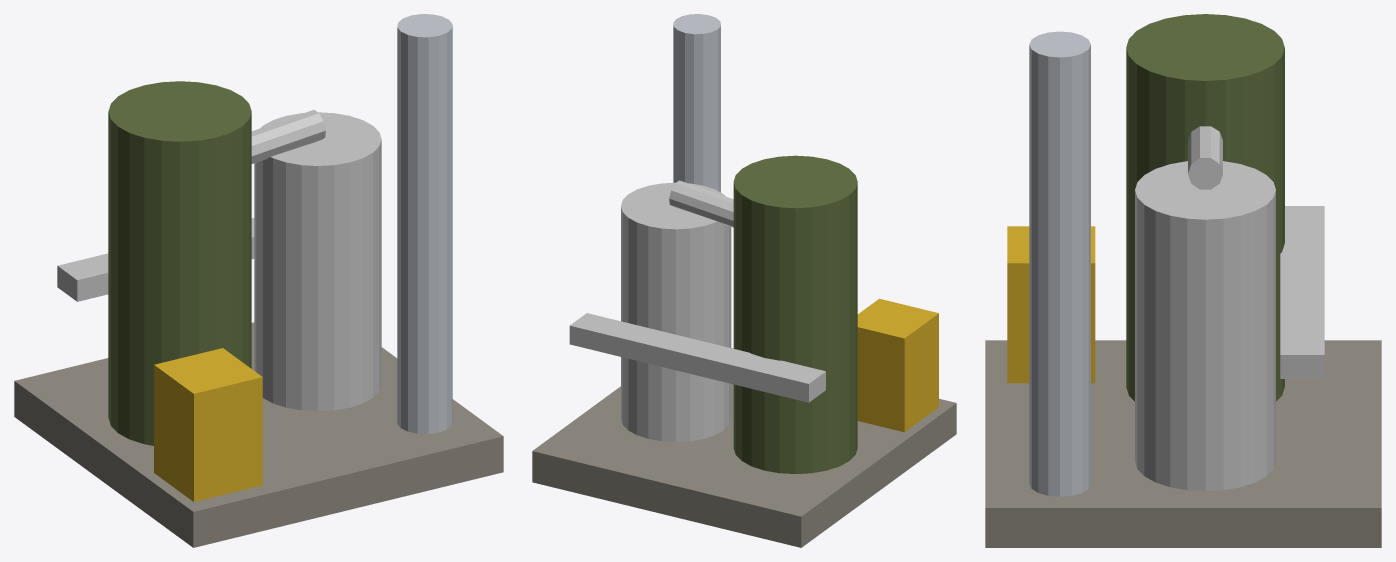
Rendered from propellant_refinery.obj.
3 renders of one model, left to right at view 1: azimuth 30°, elevation 25°; view 2: azimuth 150°, elevation 25°; view 3: azimuth 270°, elevation 25°, orthographic. The views are drawn at different scales.
Parts seen in each view (by area): view 1: propellant_refinery; view 2: propellant_refinery; view 3: propellant_refinery.
Part boxes in pixels (x1,y1,x2,y2): propellant_refinery: (14, 14, 503, 547); propellant_refinery: (532, 14, 956, 547); propellant_refinery: (985, 14, 1381, 547).
Size of the model in its own units: 0.9 by 1.2 by 0.9.
